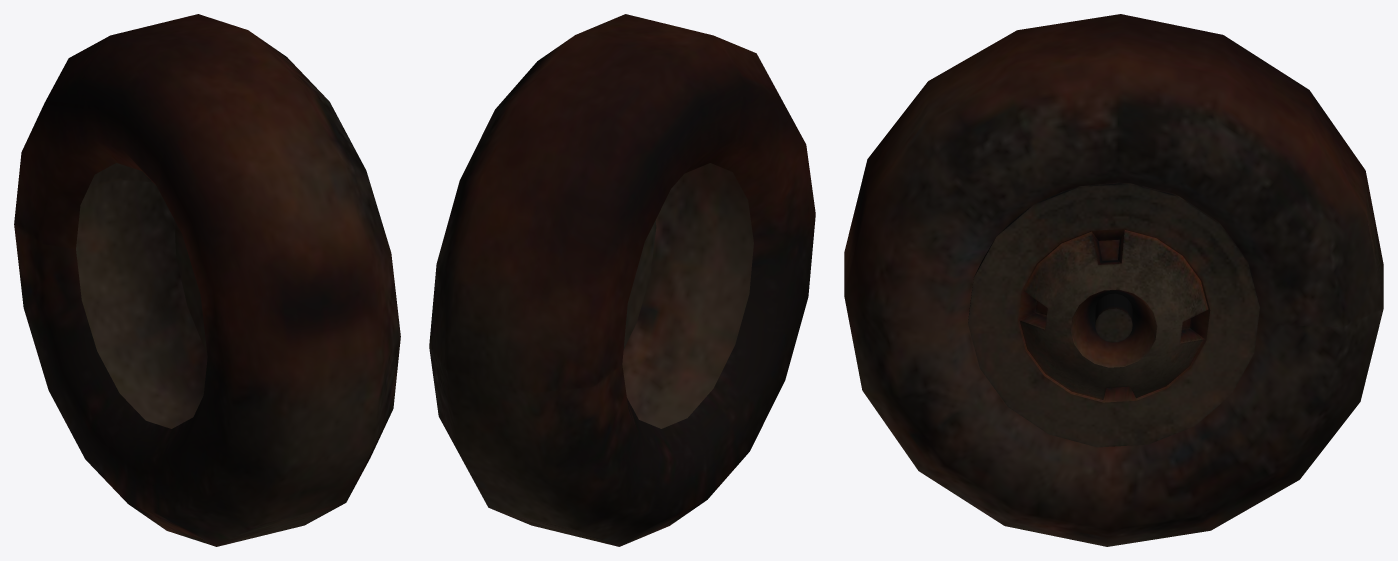
The model's file is F_Wheel.FBX.
The picture shows the model from 3 angles, left to right: view 1: azimuth 30°, elevation 25°; view 2: azimuth 150°, elevation 25°; view 3: azimuth 270°, elevation 25°; orthographic projection. The views are drawn at different scales.
Parts seen in each view (by area): view 1: F_Wheel; view 2: F_Wheel; view 3: F_Wheel.
Boxes of the visible parts, x1,y1,x2,y2 form: F_Wheel: (14,14,400,546); F_Wheel: (429,14,815,546); F_Wheel: (844,14,1383,546).
Size of the model in its own units: 7.48 by 19.03 by 19.03.
